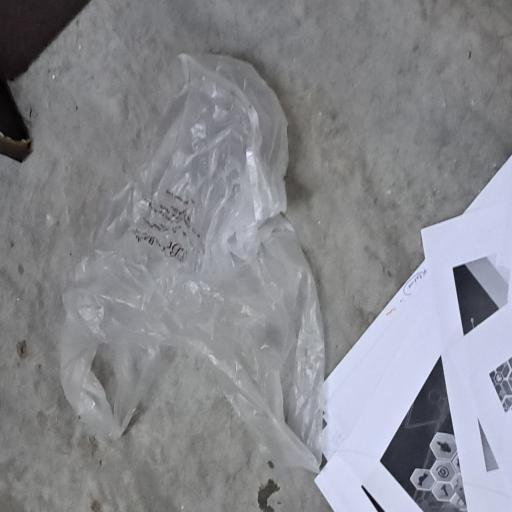paper: (312, 148, 512, 512)
plastic bag: (59, 49, 326, 470)
